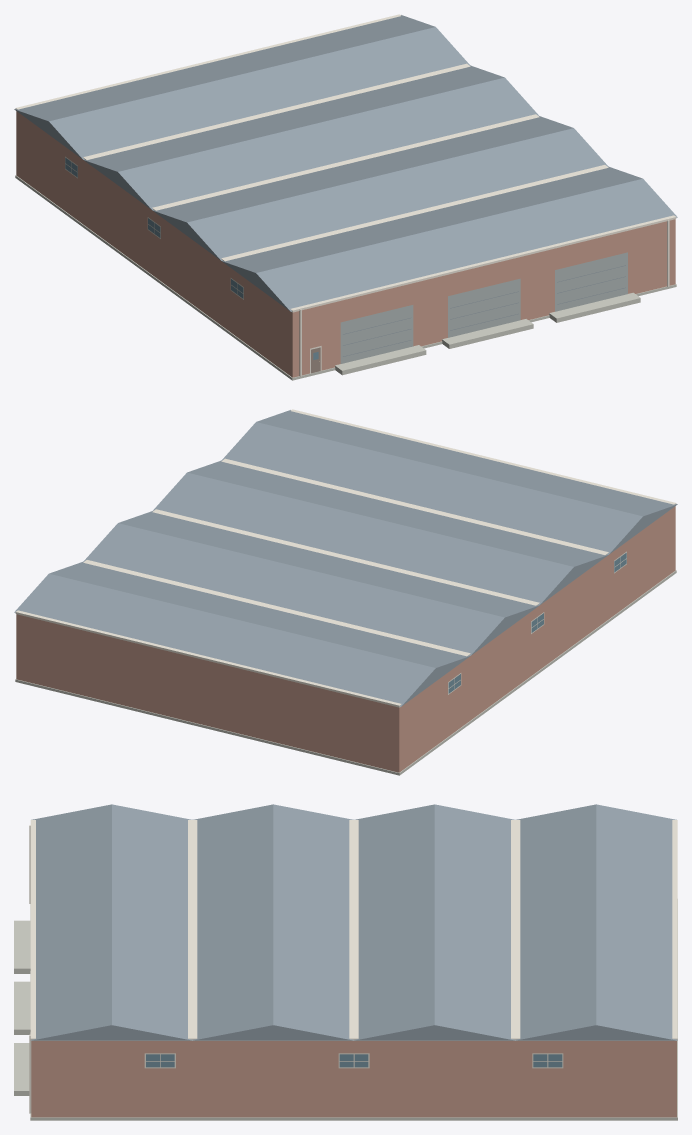
Rendered from warehouse-sawtooth.glb.
The picture shows the model from 3 angles, top to bottom: view 1: azimuth 30°, elevation 25°; view 2: azimuth 150°, elevation 25°; view 3: azimuth 270°, elevation 25°; orthographic projection. The views are drawn at different scales.
Parts seen in each view (by area): view 1: warehouse-sawtooth; view 2: warehouse-sawtooth; view 3: warehouse-sawtooth.
Boxes of the visible parts, x1,y1,x2,y2 form: warehouse-sawtooth: [14, 14, 677, 380]; warehouse-sawtooth: [14, 409, 677, 775]; warehouse-sawtooth: [14, 804, 677, 1120].
Size of the model in its own units: 36.4 by 7.4 by 46.27.
